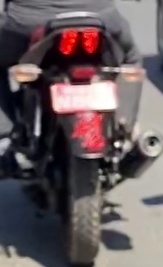license_plate: (50, 81, 117, 112)
